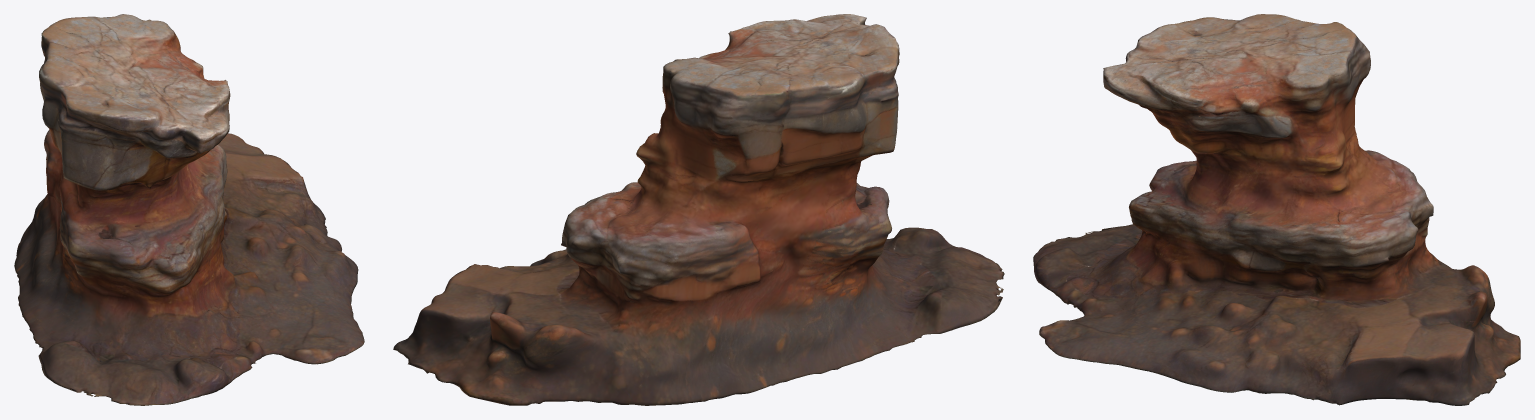
File: rock-3.glb
3 renders of one model, left to right at view 1: azimuth 30°, elevation 25°; view 2: azimuth 150°, elevation 25°; view 3: azimuth 270°, elevation 25°, orthographic. The views are drawn at different scales.
Bounding box in the file's own units: 1.73 × 1.11 × 1.97.
1 material, 1 textured.
